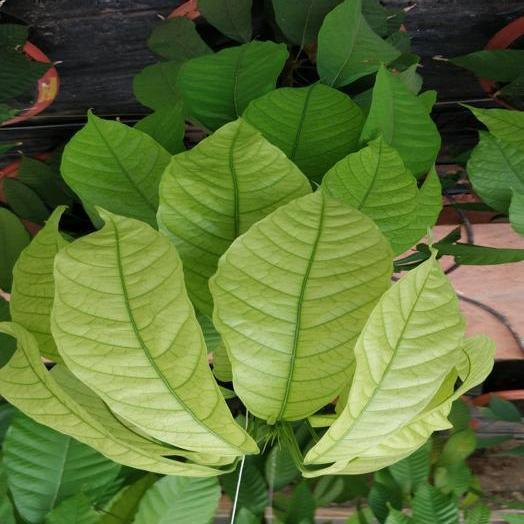Iron: (51, 210, 257, 458), (210, 189, 391, 422), (0, 322, 219, 476), (306, 255, 463, 463)
